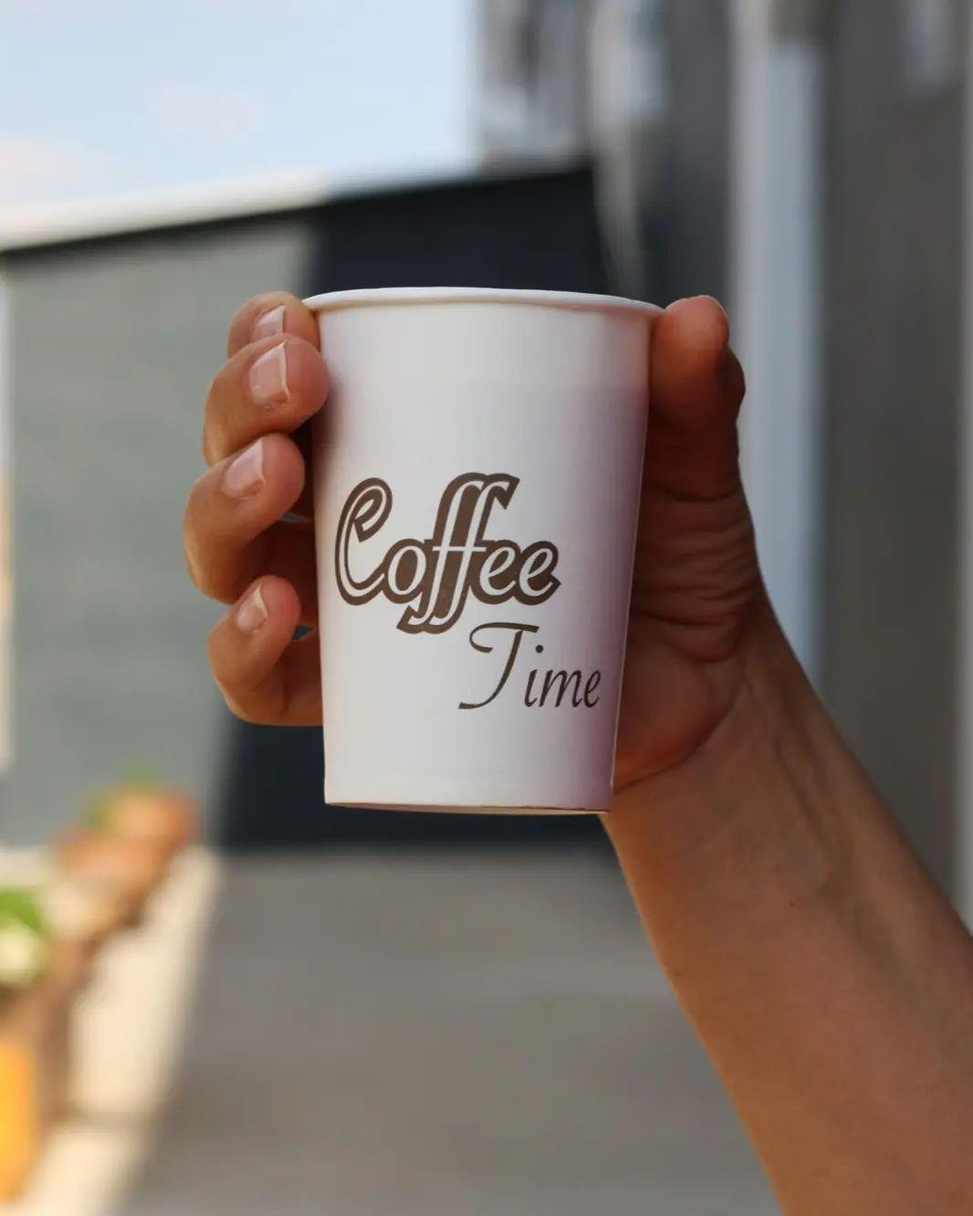cup-disposable: (275, 264, 675, 824)
